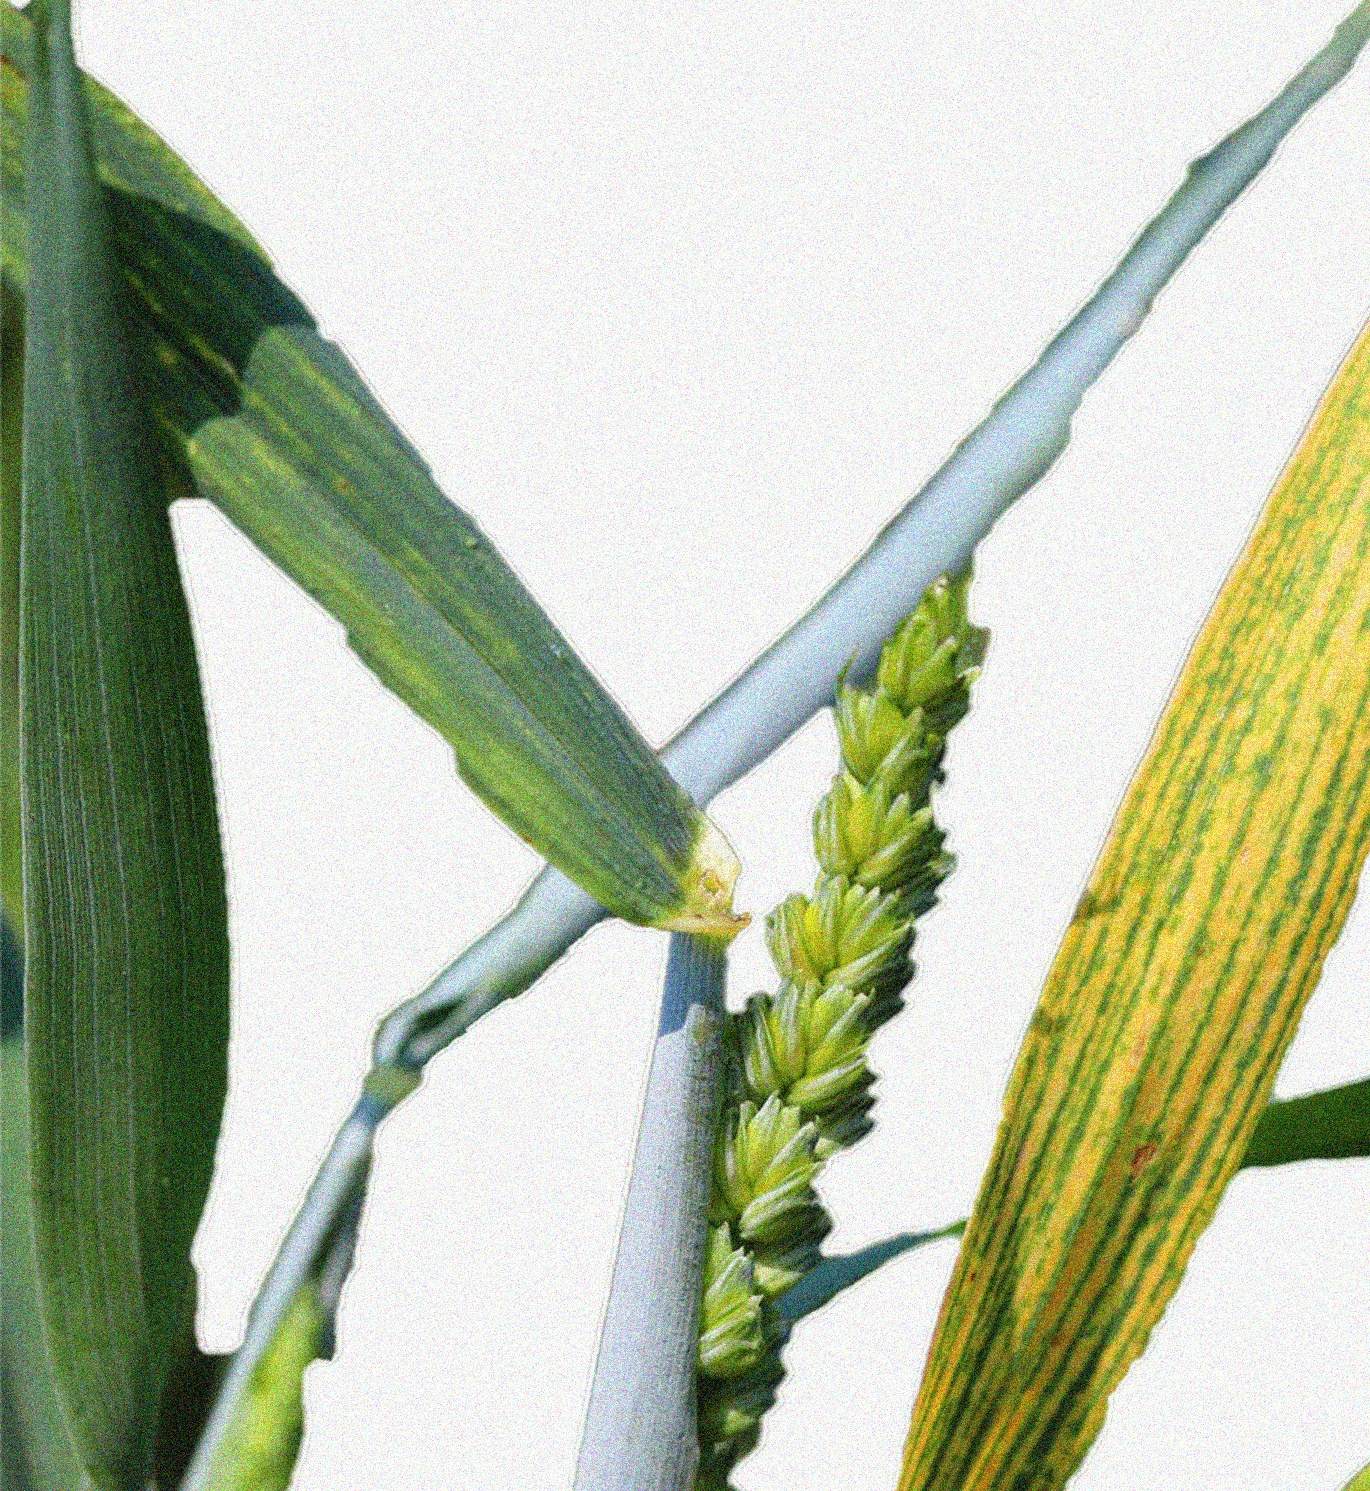wheat: (661, 518, 1010, 1481)
